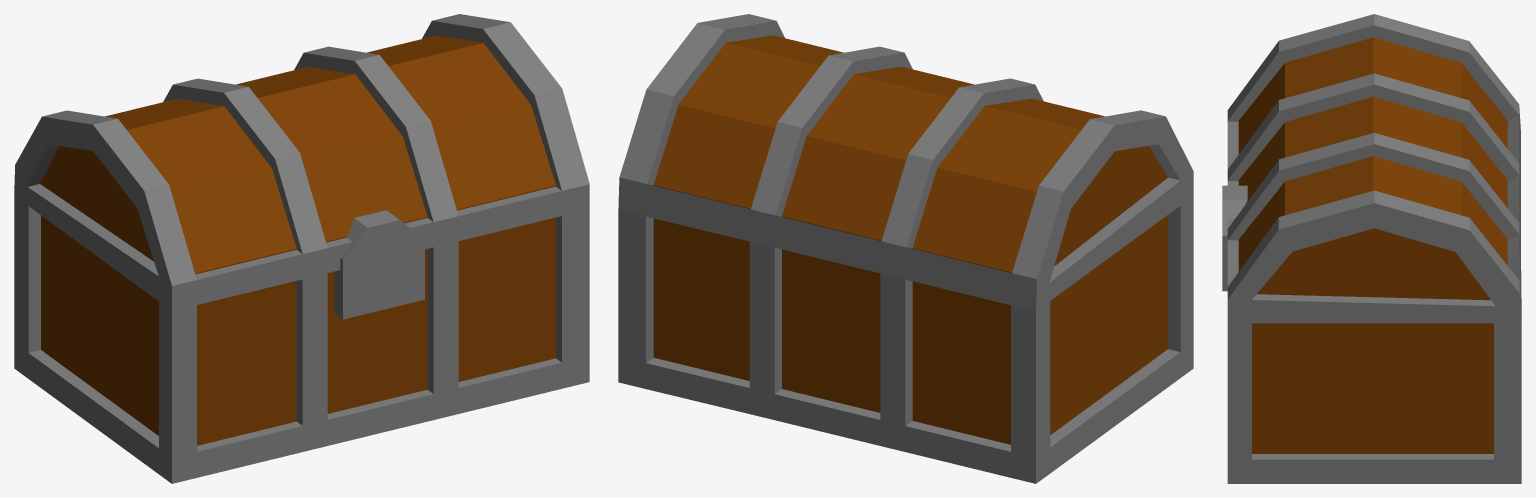
The model's file is sunduk.fbx.
3 views of the same model, side by side, from view 1: azimuth 30°, elevation 25°; view 2: azimuth 150°, elevation 25°; view 3: azimuth 270°, elevation 25° (orthographic). The views are drawn at different scales.
Parts seen in each view (by area): view 1: box; view 2: box; view 3: box.
Boxes of the visible parts, box(x1,y1,x2,y2) form: box: box(14, 14, 589, 483); box: box(618, 14, 1193, 483); box: box(1222, 14, 1521, 483).
Bounding box in the file's own units: 353 × 244 × 236.
